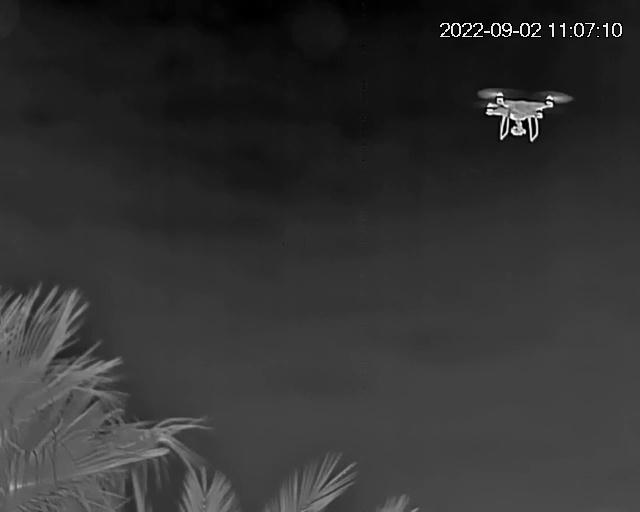DJI-Phantom: (478, 86, 571, 147)
